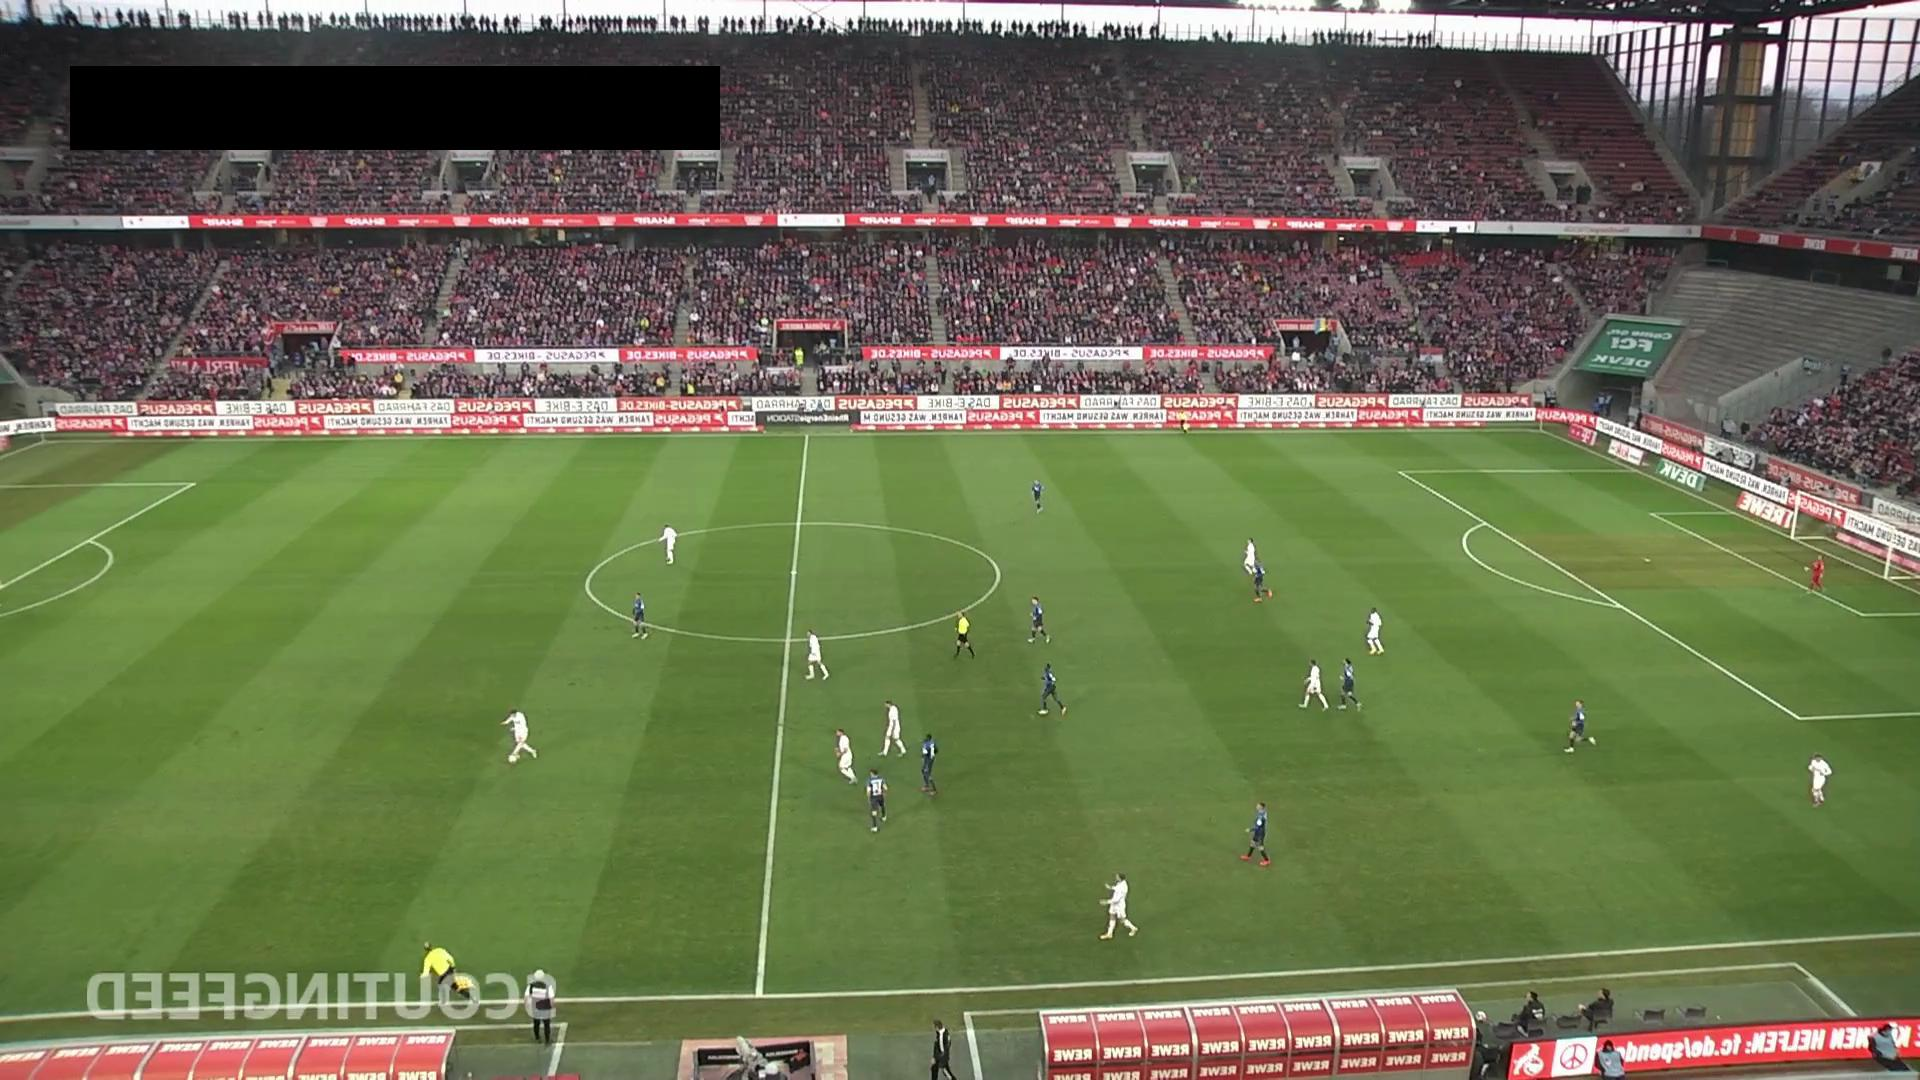ball: (506, 752, 519, 766)
goalkeeper: (1805, 555, 1825, 593)
player: (1098, 871, 1138, 940), (499, 706, 538, 764), (1241, 801, 1271, 867), (1036, 662, 1068, 718), (1563, 698, 1596, 752), (878, 699, 907, 757), (864, 767, 889, 833), (1299, 658, 1330, 710), (1337, 656, 1364, 712), (834, 727, 858, 785), (1807, 752, 1832, 807), (1250, 555, 1276, 607), (805, 629, 830, 681), (919, 732, 939, 795), (1027, 596, 1051, 644), (1364, 606, 1385, 655), (1241, 537, 1266, 577), (631, 591, 647, 638), (659, 524, 677, 564), (1031, 479, 1044, 511)
referee: (420, 940, 482, 1008), (952, 610, 975, 660), (1177, 408, 1190, 435)
